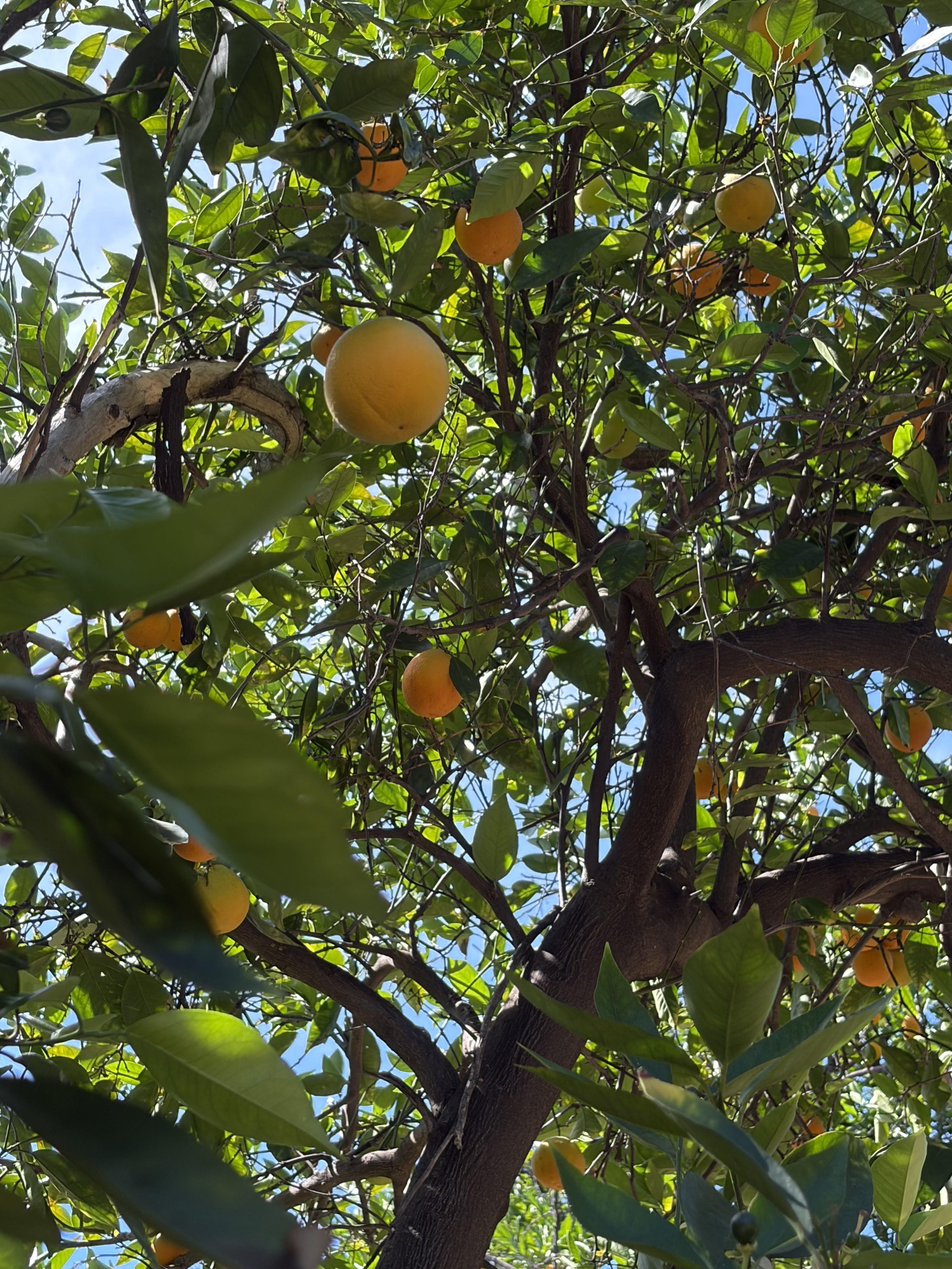orange: (324, 317, 449, 446), (747, 0, 816, 68), (455, 199, 522, 265), (401, 648, 461, 718), (195, 864, 249, 934), (715, 173, 776, 232), (357, 123, 407, 193), (671, 242, 722, 299), (532, 1136, 585, 1190), (594, 408, 640, 458), (885, 705, 932, 753), (123, 609, 170, 650), (776, 926, 816, 972), (841, 907, 882, 951), (853, 944, 893, 987), (740, 263, 782, 298), (311, 324, 344, 366), (692, 756, 724, 799), (880, 914, 916, 949), (790, 1113, 824, 1148), (793, 35, 826, 71), (152, 1234, 188, 1265), (173, 836, 215, 862), (886, 949, 914, 988), (163, 609, 182, 651), (901, 1015, 922, 1040), (717, 781, 738, 803), (868, 1041, 881, 1062), (806, 805, 819, 817), (872, 1013, 880, 1025)
